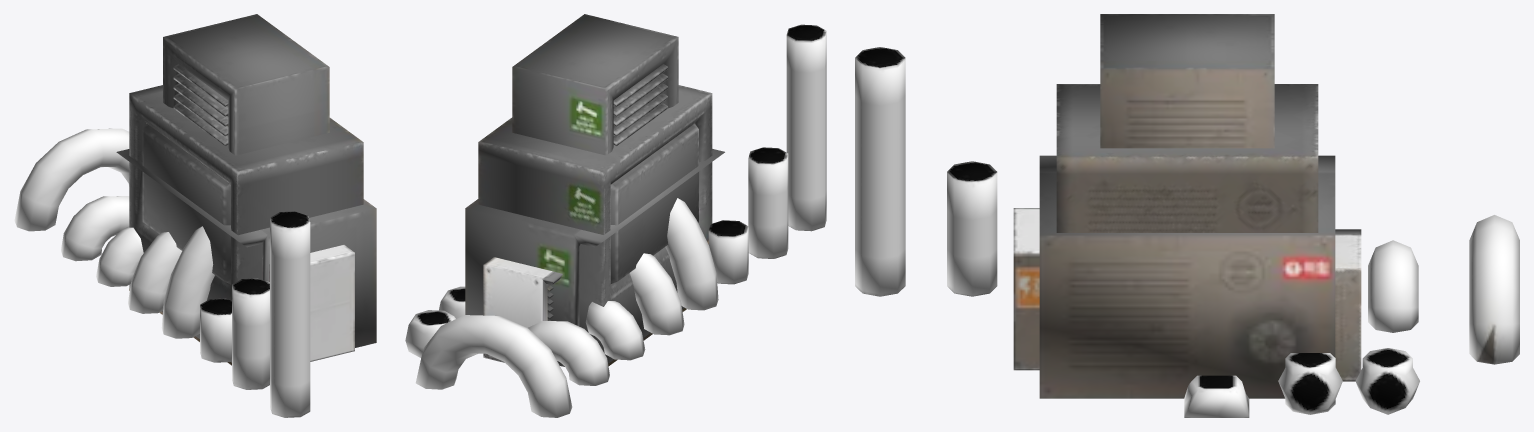
File: hvac.glb
3 views of the same model, side by side, from view 1: azimuth 30°, elevation 25°; view 2: azimuth 150°, elevation 25°; view 3: azimuth 270°, elevation 25° (orthographic). The views are drawn at different scales.
Parts seen in each view (by area): view 1: hvac_000, hvac_006, hvac_008, hvac_005, hvac_002; view 2: hvac_000, hvac_006, hvac_008, hvac_005, hvac_002; view 3: hvac_005, hvac_000, hvac_006, hvac_008, hvac_002.
Boxes of the visible parts, x1,y1,x2,y2 form: hvac_000: [14, 128, 310, 417]; hvac_006: [129, 85, 363, 362]; hvac_008: [163, 14, 329, 155]; hvac_005: [116, 149, 376, 347]; hvac_002: [262, 245, 354, 361]; hvac_000: [405, 24, 826, 417]; hvac_006: [478, 85, 712, 363]; hvac_008: [512, 14, 678, 155]; hvac_005: [465, 149, 724, 366]; hvac_002: [483, 257, 562, 362]; hvac_005: [1039, 155, 1335, 398]; hvac_000: [855, 47, 1519, 417]; hvac_006: [1056, 84, 1318, 232]; hvac_008: [1100, 14, 1274, 148]; hvac_002: [1013, 208, 1361, 381].
Size of the model in its own units: 0.505 by 0.6229 by 1.19.
Materials: 1 (1 with a texture image).
